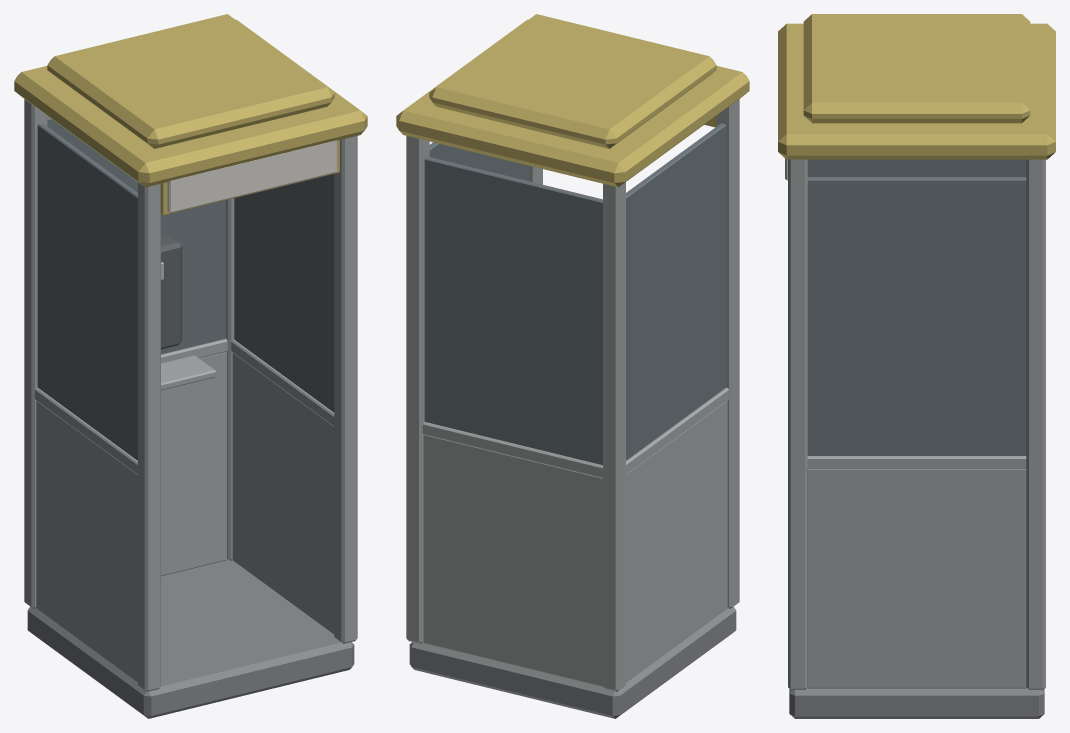
Rendered from phone_booth.glb.
3 renders of one model, left to right at view 1: azimuth 30°, elevation 25°; view 2: azimuth 150°, elevation 25°; view 3: azimuth 270°, elevation 25°, orthographic. The views are drawn at different scales.
Visible parts, largest first — view 1: PhoneBooth; view 2: PhoneBooth; view 3: PhoneBooth.
Part boxes in pixels (box(x1,y1,x2,y2)): PhoneBooth: box(14, 14, 367, 718); PhoneBooth: box(396, 14, 749, 718); PhoneBooth: box(778, 14, 1055, 718).
Size of the model in its own units: 0.98 by 2.37 by 0.98.
